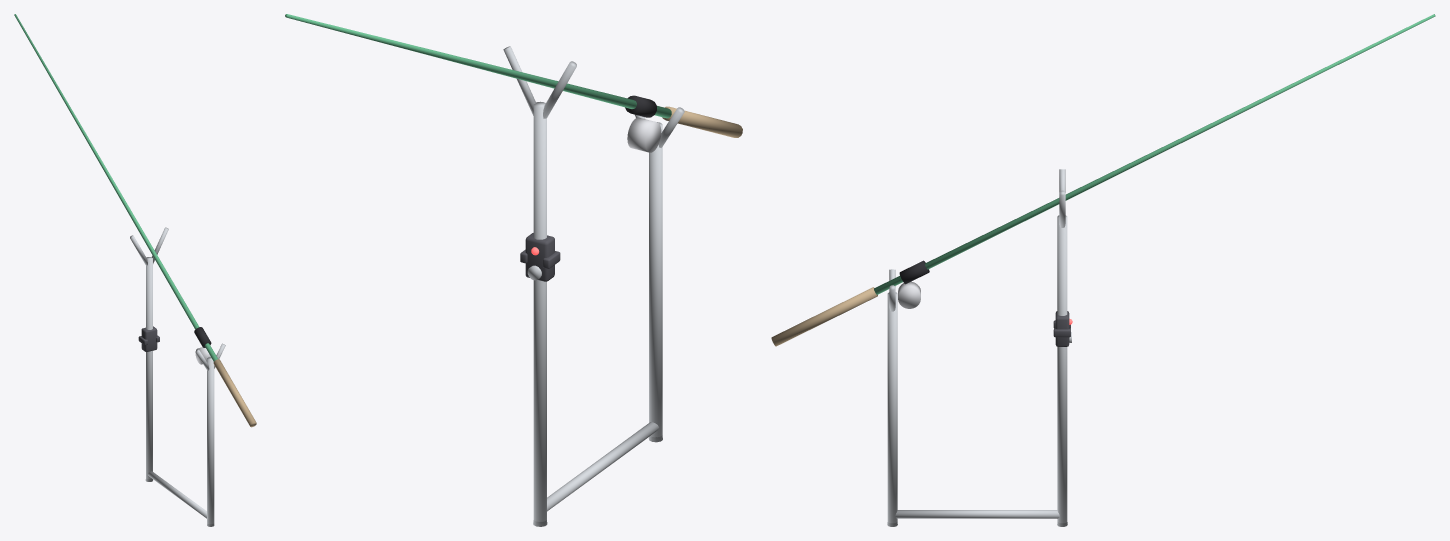
File: rutenstaender.glb
3 renders of one model, left to right at view 1: azimuth 30°, elevation 25°; view 2: azimuth 150°, elevation 25°; view 3: azimuth 270°, elevation 25°, orthographic. The views are drawn at different scales.
Parts seen in each view (by area): view 1: Rutenstaender, Blank.001, Kork; view 2: Rutenstaender, Blank.001, Kork, Rolle; view 3: Rutenstaender, Blank.001, Kork.
Boxes of the visible parts, <box> form: Rutenstaender: <box>130,227,225,526</box>; Blank.001: <box>14,14,217,361</box>; Kork: <box>213,359,256,427</box>; Rutenstaender: <box>503,46,684,526</box>; Blank.001: <box>285,14,671,118</box>; Kork: <box>662,106,742,137</box>; Rolle: <box>627,117,661,152</box>; Rutenstaender: <box>887,169,1072,526</box>; Blank.001: <box>874,14,1435,294</box>; Kork: <box>771,287,877,346</box>.
Bounding box in the file's own units: 0.1592 × 1.46 × 1.72.
